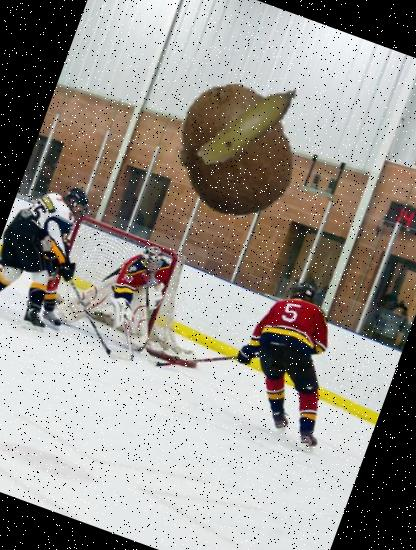Banana: (174, 51, 327, 204)
Kiwi: (149, 65, 321, 237)
